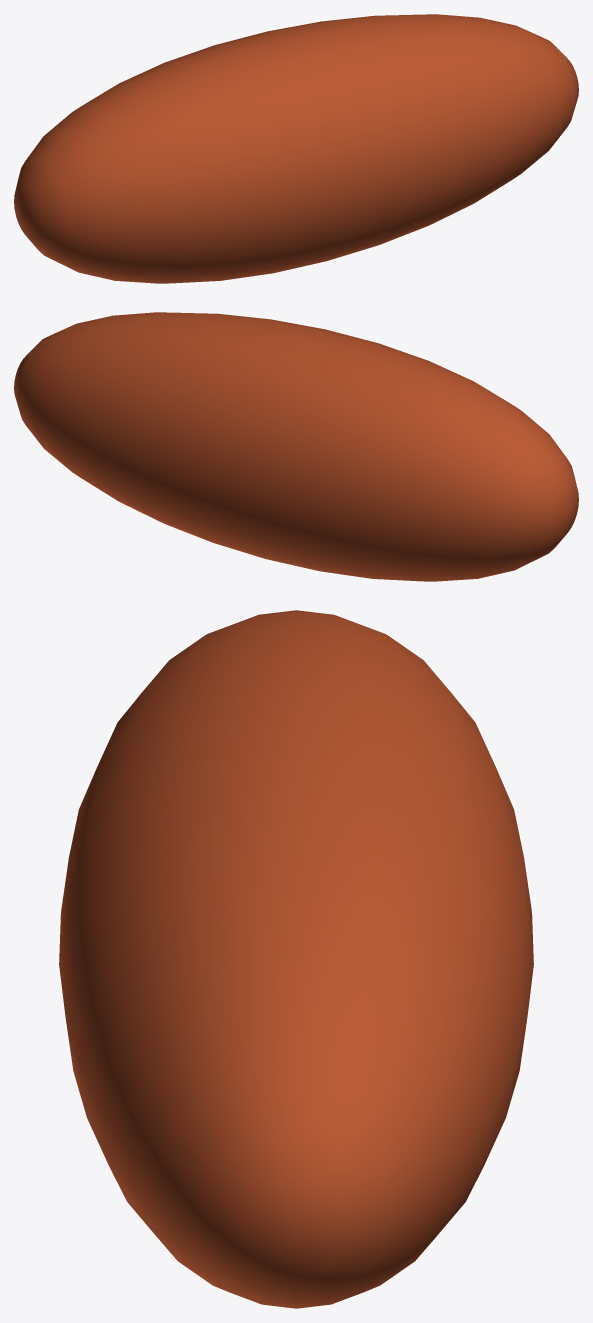
Rendered from Sweet_Potato.fbx.
The picture shows the model from 3 angles, top to bottom: view 1: azimuth 30°, elevation 25°; view 2: azimuth 150°, elevation 25°; view 3: azimuth 270°, elevation 25°; orthographic projection. The views are drawn at different scales.
Parts seen in each view (by area): view 1: Sweet_Potato; view 2: Sweet_Potato; view 3: Sweet_Potato.
Part boxes in pixels (box(x1,y1,x2,y2)): Sweet_Potato: box(14, 14, 578, 283); Sweet_Potato: box(14, 312, 578, 581); Sweet_Potato: box(59, 610, 533, 1308).
Size of the model in its own units: 0.16 by 0.06 by 0.06.
